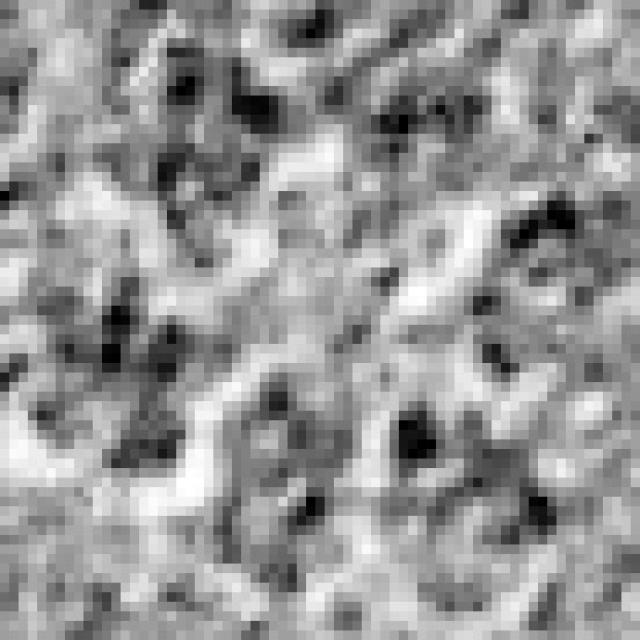inner: (228, 186, 466, 403)
lobe: (95, 43, 309, 270), (373, 405, 572, 617), (198, 382, 367, 600), (333, 53, 523, 237), (462, 186, 640, 379), (27, 268, 190, 471)
outer: (0, 0, 640, 638)
